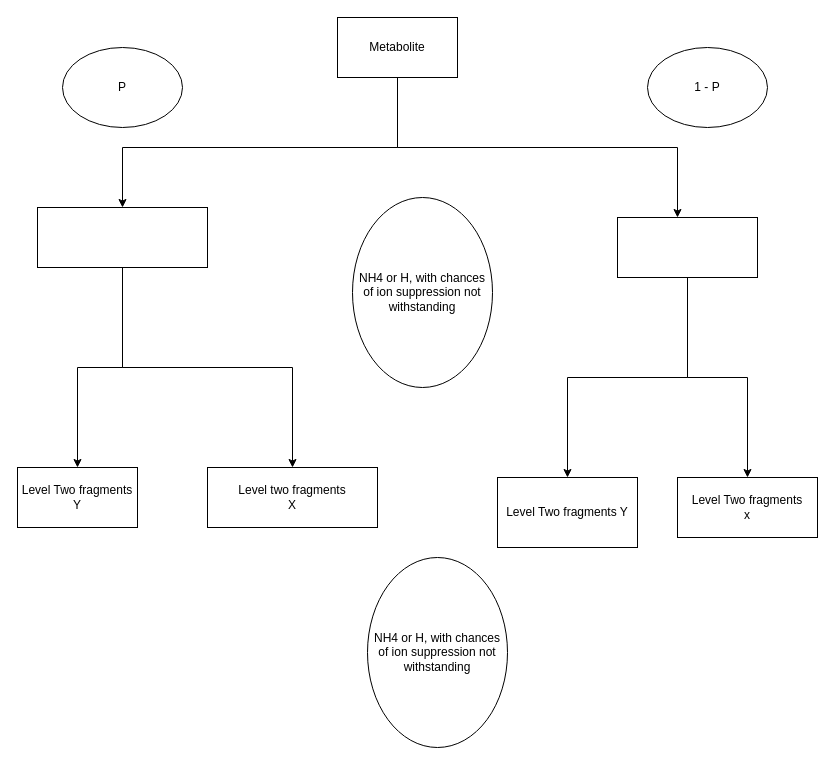
Some shapes in this 835 by 765 pixel diagram are drawn without their labels. Here are the shapes that lost their labels. From the top down, the centre of each, then its label:
At pixel 122 237: "Level one Fragment Y".
At pixel 687 247: "Level One Fragment X".
